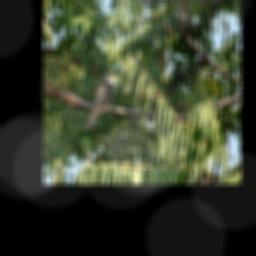Cuckoo: (80, 70, 120, 131)
